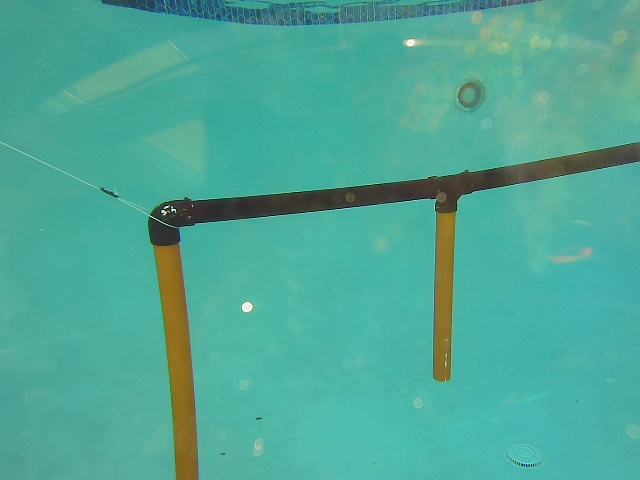Gate: (149, 241, 205, 480), (426, 204, 458, 388)
